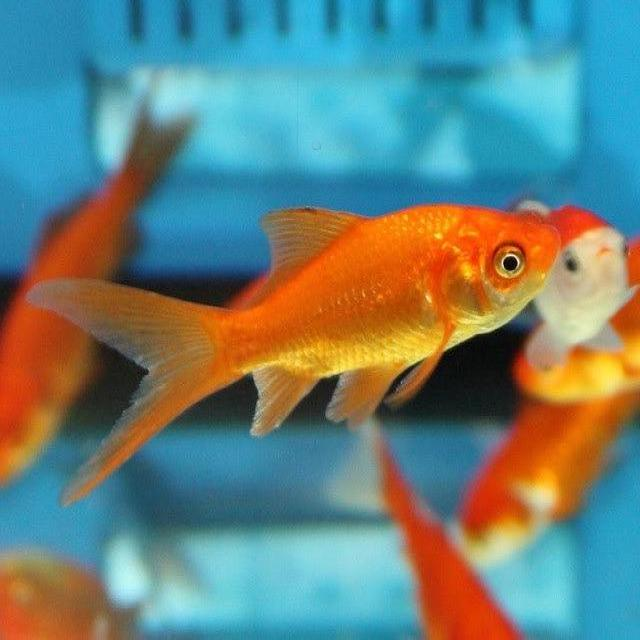GoldFish: (25, 200, 555, 505)
